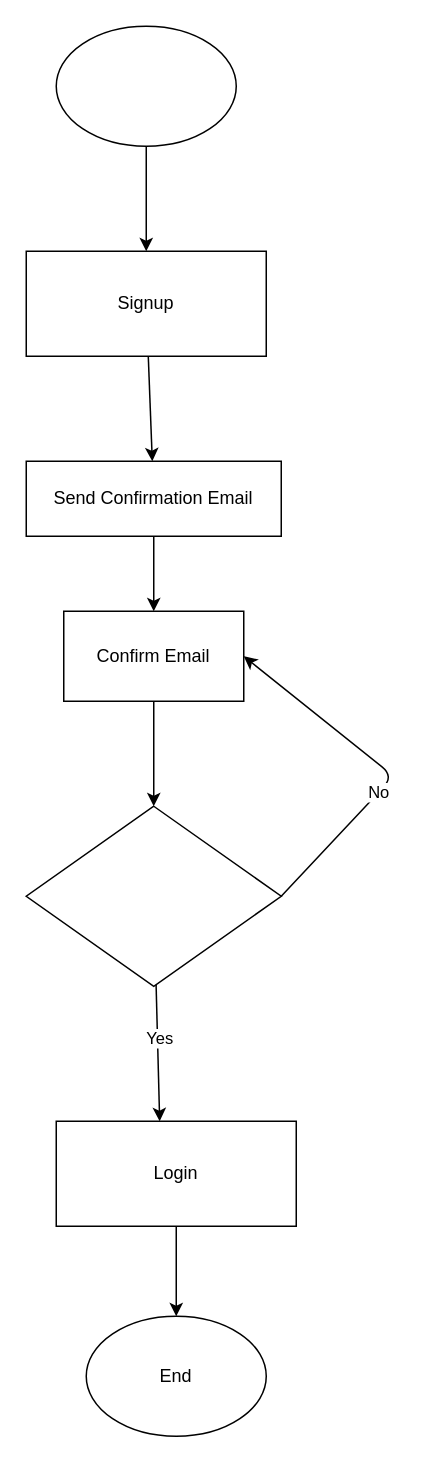
This 432x1463 diagram has some shape labels left out. The shapes that lost their labels are listed below. From the top down, each one's box as (x1, y1, x2, y2) in pixels, then its label:
(55, 25, 236, 146): Start
(25, 805, 281, 986): Is Email Confirmed?
